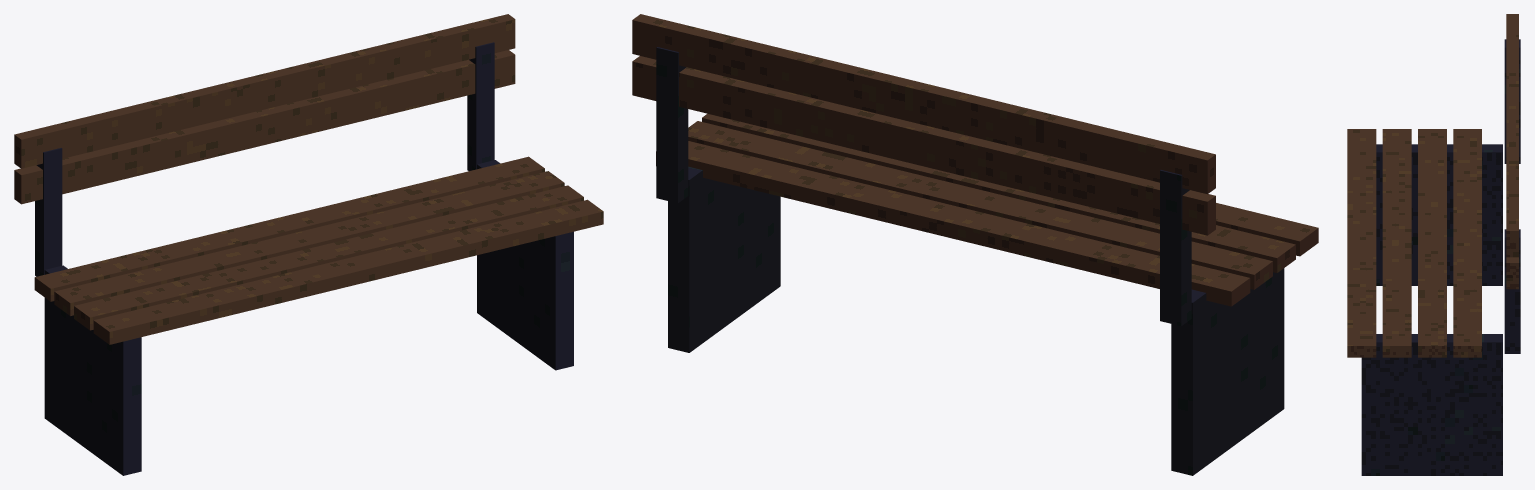
The model's file is bench.glb.
3 views of the same model, side by side, from view 1: azimuth 30°, elevation 25°; view 2: azimuth 150°, elevation 25°; view 3: azimuth 270°, elevation 25° (orthographic). The views are drawn at different scales.
Parts seen in each view (by area): view 1: prop; view 2: prop; view 3: prop.
Part boxes in pixels (x1=…): prop: x1=14, y1=14, x2=603, y2=475; prop: x1=632, y1=14, x2=1318, y2=475; prop: x1=1347, y1=14, x2=1520, y2=475.
Bounding box in the file's own units: 1.6 × 0.875 × 0.54.
Materials: 1 (1 with a texture image).
